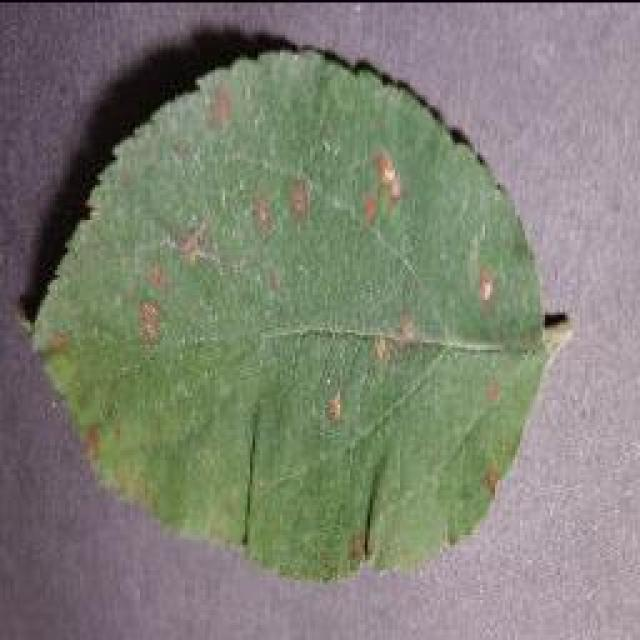apple scab disease: (22, 40, 572, 582)
